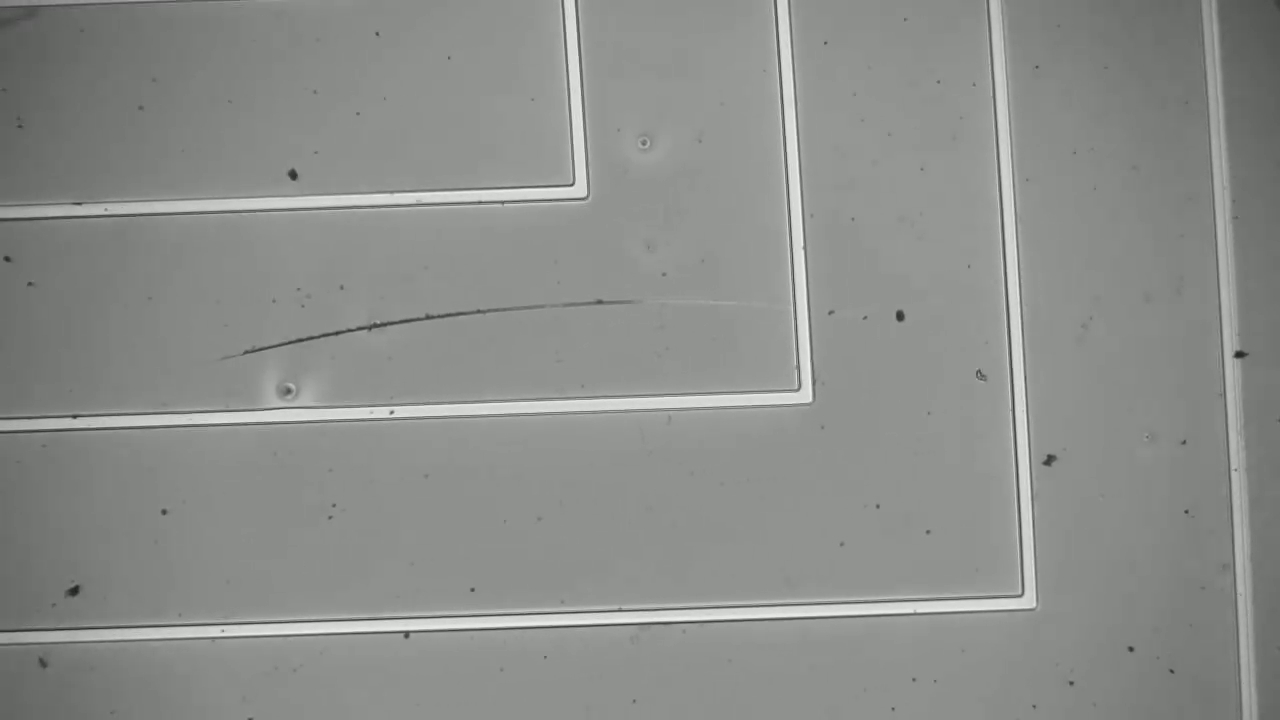scratch: (218, 271, 648, 367)
stains_enbedded: (1202, 334, 1263, 378)
